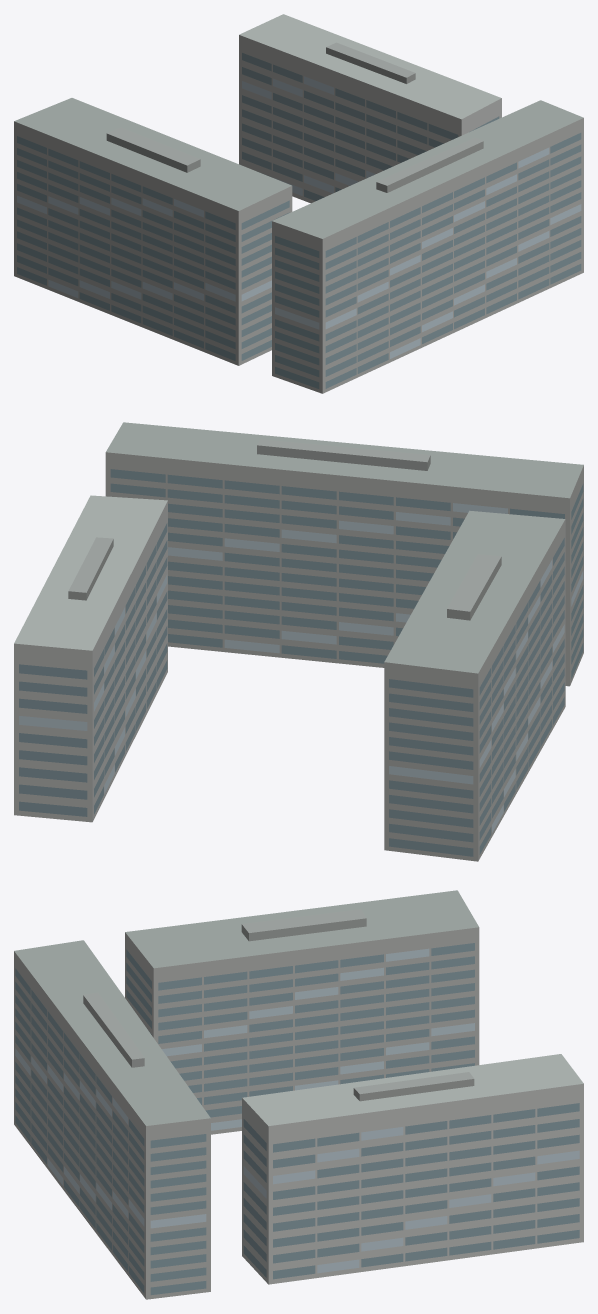
Rendered from apt-a14272307.glb.
The picture shows the model from 3 angles, top to bottom: view 1: azimuth 30°, elevation 25°; view 2: azimuth 150°, elevation 25°; view 3: azimuth 270°, elevation 25°; orthographic projection. The views are drawn at different scales.
Visible parts, largest first — view 1: apt-a14272307; view 2: apt-a14272307; view 3: apt-a14272307.
Boxes of the visible parts, left/top/right/bottom form: apt-a14272307: left=14, top=14, right=583, bottom=393; apt-a14272307: left=14, top=422, right=583, bottom=861; apt-a14272307: left=14, top=890, right=583, bottom=1299.
Size of the model in its own units: 97.37 by 35 by 99.45.
